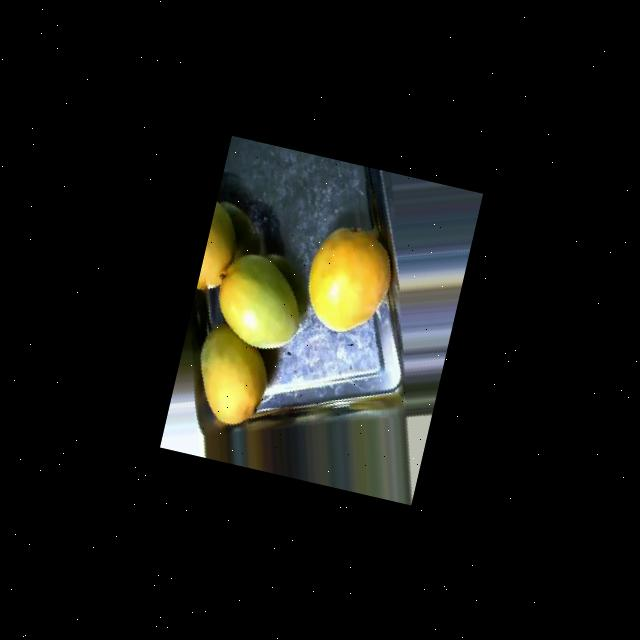Mango: (296, 217, 400, 340), (207, 246, 311, 355), (184, 319, 276, 430), (195, 198, 244, 294)
